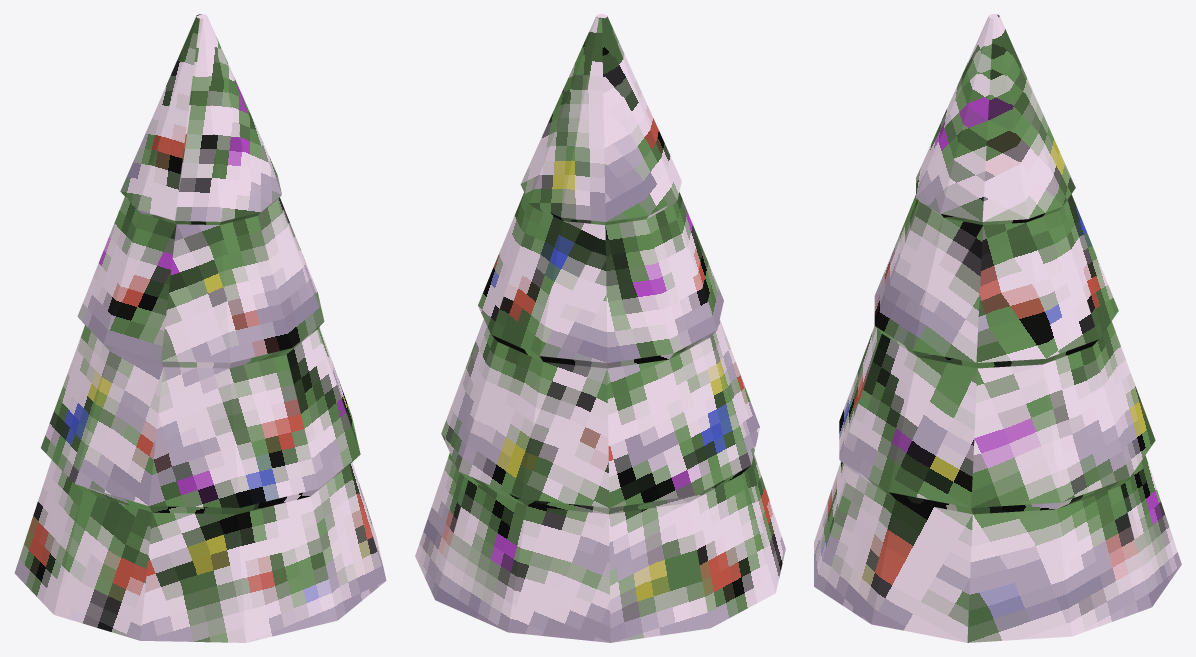
Rendered from Pinus.glb.
3 renders of one model, left to right at view 1: azimuth 30°, elevation 25°; view 2: azimuth 150°, elevation 25°; view 3: azimuth 270°, elevation 25°, orthographic.
Visible parts, largest first — view 1: Circle; view 2: Circle; view 3: Circle.
Part boxes in pixels (left/top/right/bottom): Circle: left=14, top=14, right=386, bottom=642; Circle: left=415, top=14, right=785, bottom=642; Circle: left=814, top=14, right=1181, bottom=642.
Bounding box in the file's own units: 2.43 × 3.96 × 2.41.
Materials: 1 (1 with a texture image).
